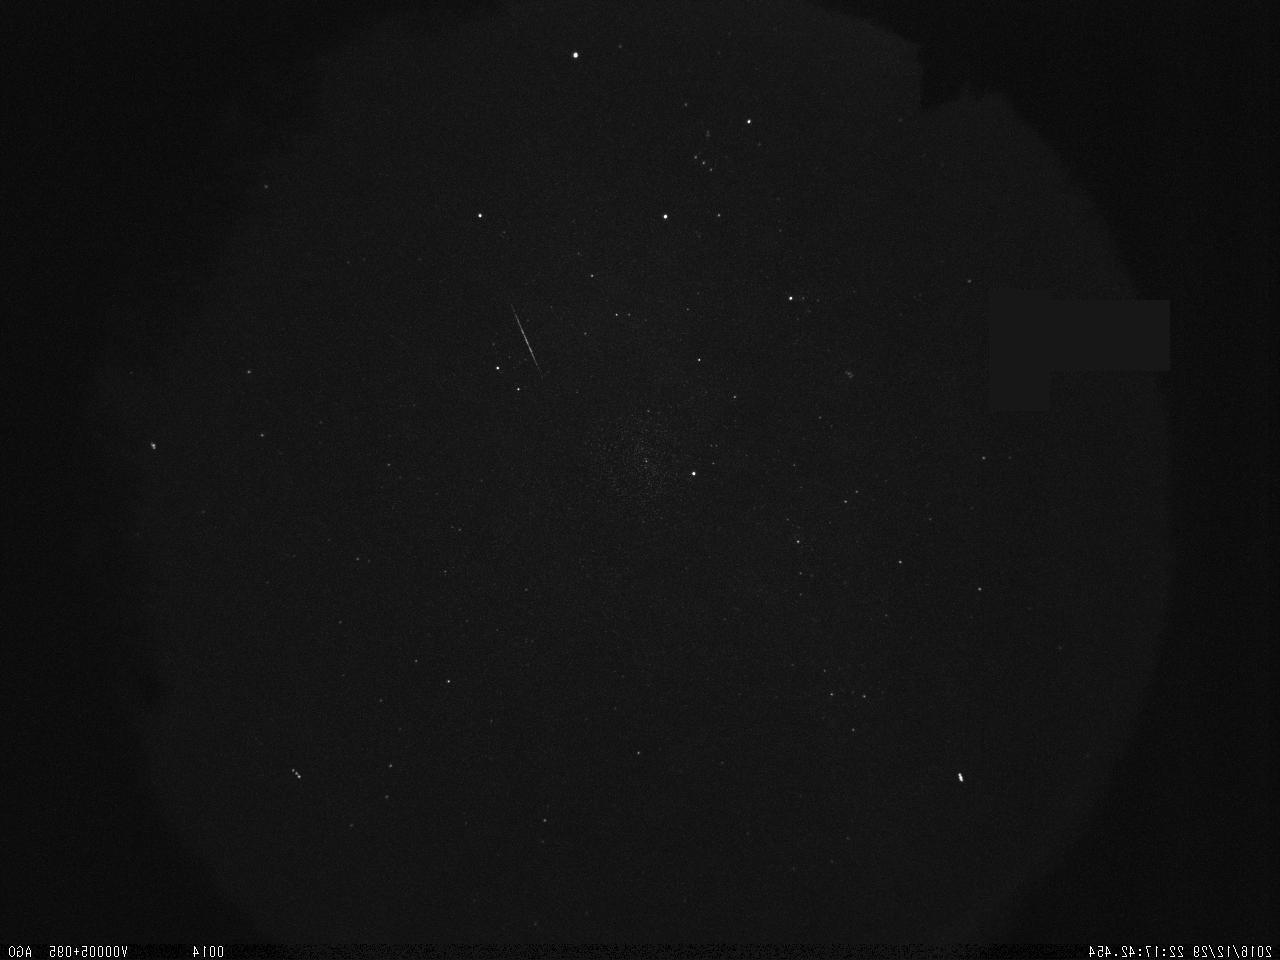meteor: (500, 305, 544, 383)
